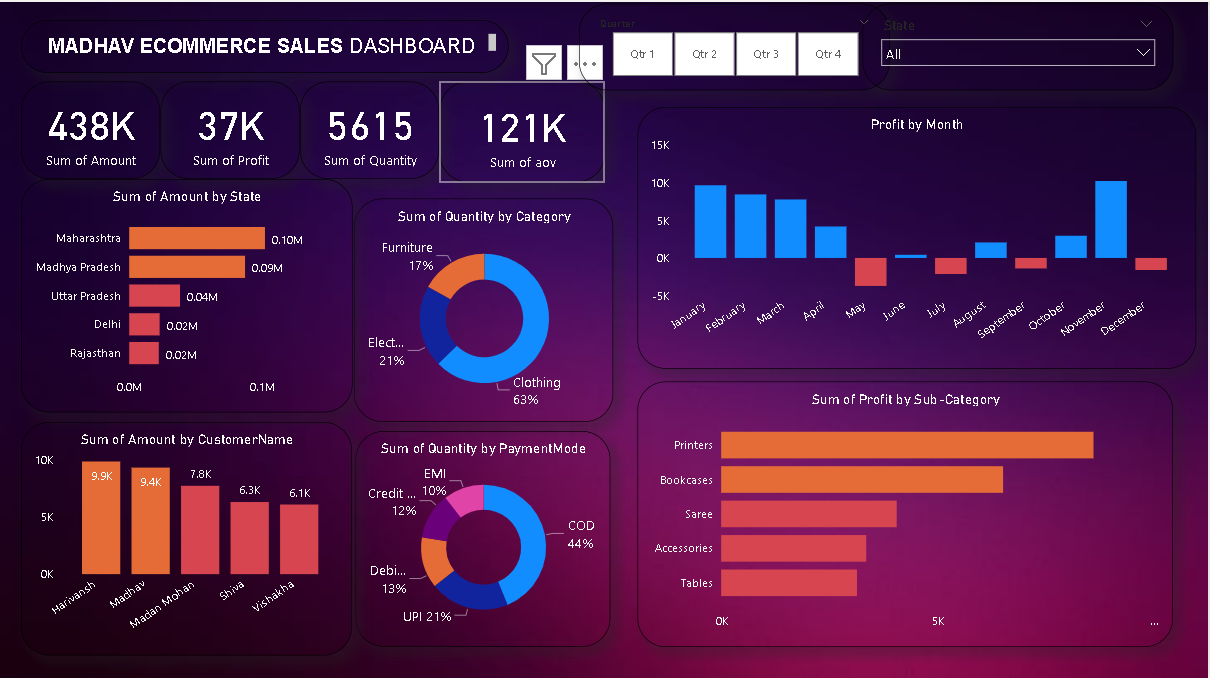

This screenshot's page, from the dashboard's own definition file:
{"tool":"powerbi","page":{"name":"Page 1","canvas":[1280,720],"ordinal":0},"visuals":[{"type":"textbox","box":[23,19.7,516.4,55.7],"z":0},{"type":"columnChart","title":"Profit by Month","fields":{"Category":["Orders.Order Date.Variation.Date Hierarchy.Month"],"Y":["Details.Profit"]},"box":[675.4,111.5,591.8,277],"z":1000},{"type":"barChart","fields":{"Category":["Details.Sub-Category"],"Y":["Details.Profit"]},"box":[675.5,402.1,567.4,281.3],"z":2000},{"type":"donutChart","fields":{"Category":["Details.Category"],"Y":["Details.Quantity"]},"box":[375.1,208.2,275,236.8],"z":3000},{"type":"donutChart","fields":{"Y":["Details.Quantity"],"Category":["Details.PaymentMode"]},"box":[376.7,454.6,270.2,228.9],"z":4000},{"type":"card","fields":{"Values":["Details.Amount"]},"box":[23,83.6,147.5,103.3],"z":5000},{"type":"card","fields":{"Values":["Details.Profit"]},"box":[170.5,83.6,147.5,103.3],"z":6000},{"type":"card","fields":{"Values":["Details.Quantity"]},"box":[318,83.6,147.5,103.3],"z":7000},{"type":"card","fields":{"Values":["Details.aov"]},"box":[465.6,83.6,175.4,106.6],"z":8000},{"type":"barChart","fields":{"Category":["Orders.State"],"Y":["Details.Amount"]},"box":[22.7,187.1,351.5,247.6],"z":9000},{"type":"columnChart","fields":{"Category":["Orders.CustomerName"],"Y":["Details.Amount"]},"box":[23,444.3,350.8,247.5],"z":10000},{"type":"slicer","fields":{"Values":["Orders.Order Date.Variation.Date Hierarchy.Quarter"]},"box":[613.1,1.6,329.5,91.8],"z":11000},{"type":"slicer","fields":{"Values":["Orders.State"]},"box":[913.1,1.6,329.5,91.8],"z":11001}]}

Visuals, with their boxes in screenshot pixels (x1, y1, x2, y2), scaled from the page's 1280x720 canvas onto the 1210x678 screenshot:
textbox: 22 19 510 71
"Profit by Month" columnChart: 638 105 1198 366
barChart - Details.Sub-Category x Details.Profit: 639 379 1175 644
donutChart - Details.Category x Details.Quantity: 355 196 615 419
donutChart - Details.Quantity x Details.PaymentMode: 356 428 612 644
card - Details.Amount: 22 79 161 176
card - Details.Profit: 161 79 301 176
card - Details.Quantity: 301 79 440 176
card - Details.aov: 440 79 606 179
barChart - Orders.State x Details.Amount: 21 176 354 409
columnChart - Orders.CustomerName x Details.Amount: 22 418 353 651
slicer - Orders.Order Date.Variation.Date Hierarchy.Quarter: 580 2 891 88
slicer - Orders.State: 863 2 1175 88
